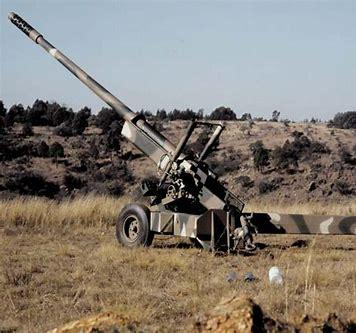MIL_SPG: (8, 13, 258, 252)
